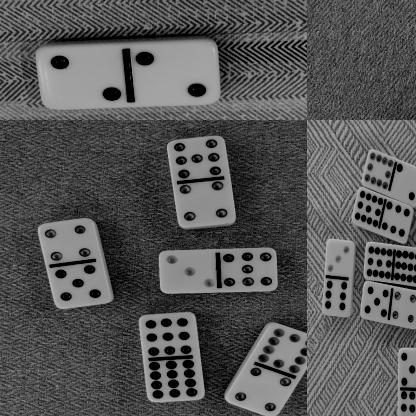pip-10: (257, 323, 307, 374), (362, 148, 394, 193)
pip-11: (364, 240, 394, 284), (353, 188, 384, 230)
pip-12: (145, 360, 206, 402), (394, 245, 416, 286)
pip-2: (128, 40, 221, 106), (36, 46, 125, 109), (394, 164, 416, 209)
pip-3: (159, 250, 218, 294), (325, 238, 355, 278)
pip-4: (224, 368, 292, 416), (177, 181, 236, 227), (39, 220, 97, 264), (391, 289, 416, 330)
pip-5: (51, 264, 111, 309), (360, 281, 392, 322), (397, 348, 416, 389)
pip-6: (383, 202, 414, 244), (322, 278, 352, 318)
pip-7: (219, 248, 278, 292), (167, 137, 227, 180)
pip-9: (138, 314, 198, 358), (397, 389, 416, 416)
